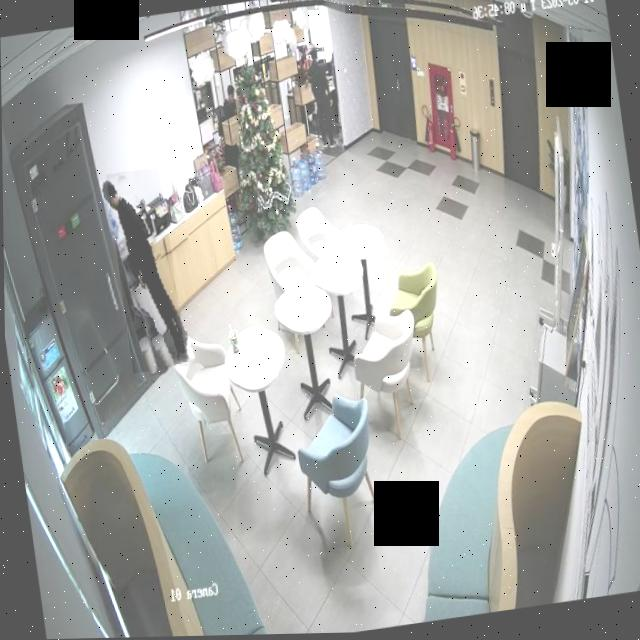person: (105, 167, 185, 374), (303, 47, 337, 151)
